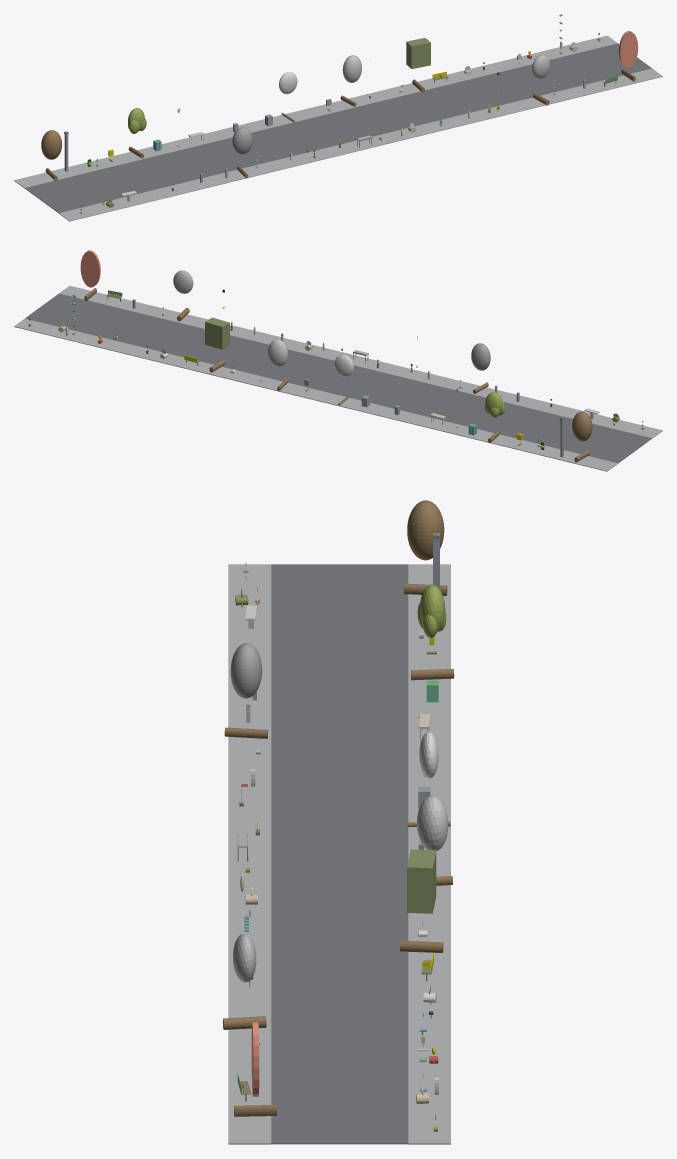
3 renders of one model, top to bottom at view 1: azimuth 30°, elevation 25°; view 2: azimuth 150°, elevation 25°; view 3: azimuth 270°, elevation 25°, orthographic. The views are drawn at different scales.
Parts seen in each view (by area): view 1: road_slab, sidewalk_left, sidewalk_right, inst_0023, inst_0025, inst_0018, inst_0020, inst_0022, inst_0019, inst_0024, inst_0021; view 2: road_slab, sidewalk_right, sidewalk_left, inst_0023, inst_0025, inst_0018, inst_0022, inst_0020, inst_0024, inst_0019, inst_0021; view 3: road_slab, sidewalk_left, sidewalk_right, inst_0023, inst_0018, inst_0020, inst_0019, inst_0022, inst_0024, inst_0025.
Part boxes in pixels (left/top/right/bottom): road_slab: left=24, top=43, right=651, bottom=213; sidewalk_left: left=59, top=68, right=662, bottom=221; sidewalk_right: left=14, top=35, right=617, bottom=188; inst_0023: left=406, top=38, right=430, bottom=92; inst_0025: left=618, top=31, right=638, bottom=81; inst_0018: left=41, top=130, right=62, bottom=181; inst_0020: left=232, top=127, right=252, bottom=178; inst_0022: left=340, top=55, right=361, bottom=106; inst_0019: left=128, top=108, right=146, bottom=158; inst_0024: left=532, top=55, right=550, bottom=105; inst_0021: left=279, top=72, right=297, bottom=122; road_slab: left=25, top=293, right=651, bottom=463; sidewalk_right: left=14, top=318, right=617, bottom=471; sidewalk_left: left=59, top=285, right=662, bottom=438; inst_0023: left=205, top=317, right=229, bottom=372; inst_0025: left=80, top=250, right=100, bottom=301; inst_0018: left=572, top=411, right=592, bottom=462; inst_0022: left=267, top=339, right=288, bottom=391; inst_0020: left=471, top=343, right=490, bottom=393; inst_0024: left=173, top=270, right=193, bottom=321; inst_0019: left=484, top=392, right=504, bottom=442; inst_0021: left=334, top=354, right=353, bottom=405; road_slab: left=271, top=564, right=408, bottom=1144; sidewalk_left: left=228, top=564, right=271, bottom=1144; sidewalk_right: left=408, top=564, right=450, bottom=1144; inst_0023: left=400, top=849, right=443, bottom=952; inst_0018: left=404, top=500, right=447, bottom=595; inst_0020: left=224, top=643, right=267, bottom=738; inst_0019: left=411, top=585, right=454, bottom=680; inst_0022: left=417, top=795, right=452, bottom=885; inst_0024: left=222, top=934, right=266, bottom=1029; inst_0025: left=234, top=1022, right=276, bottom=1116.
Bounding box in the file's own units: 80 × 6.08 × 13.51.
